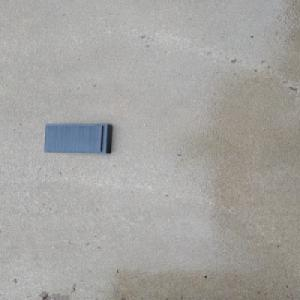PlasticPart: (42, 122, 112, 155)
